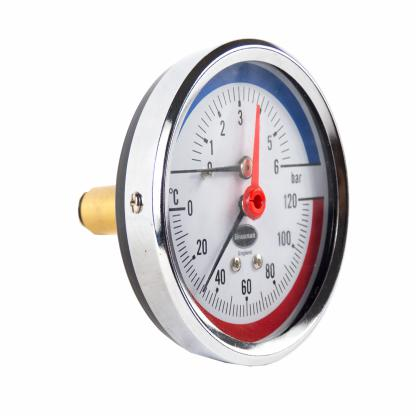needle: (202, 210, 246, 294), (171, 162, 239, 175)
